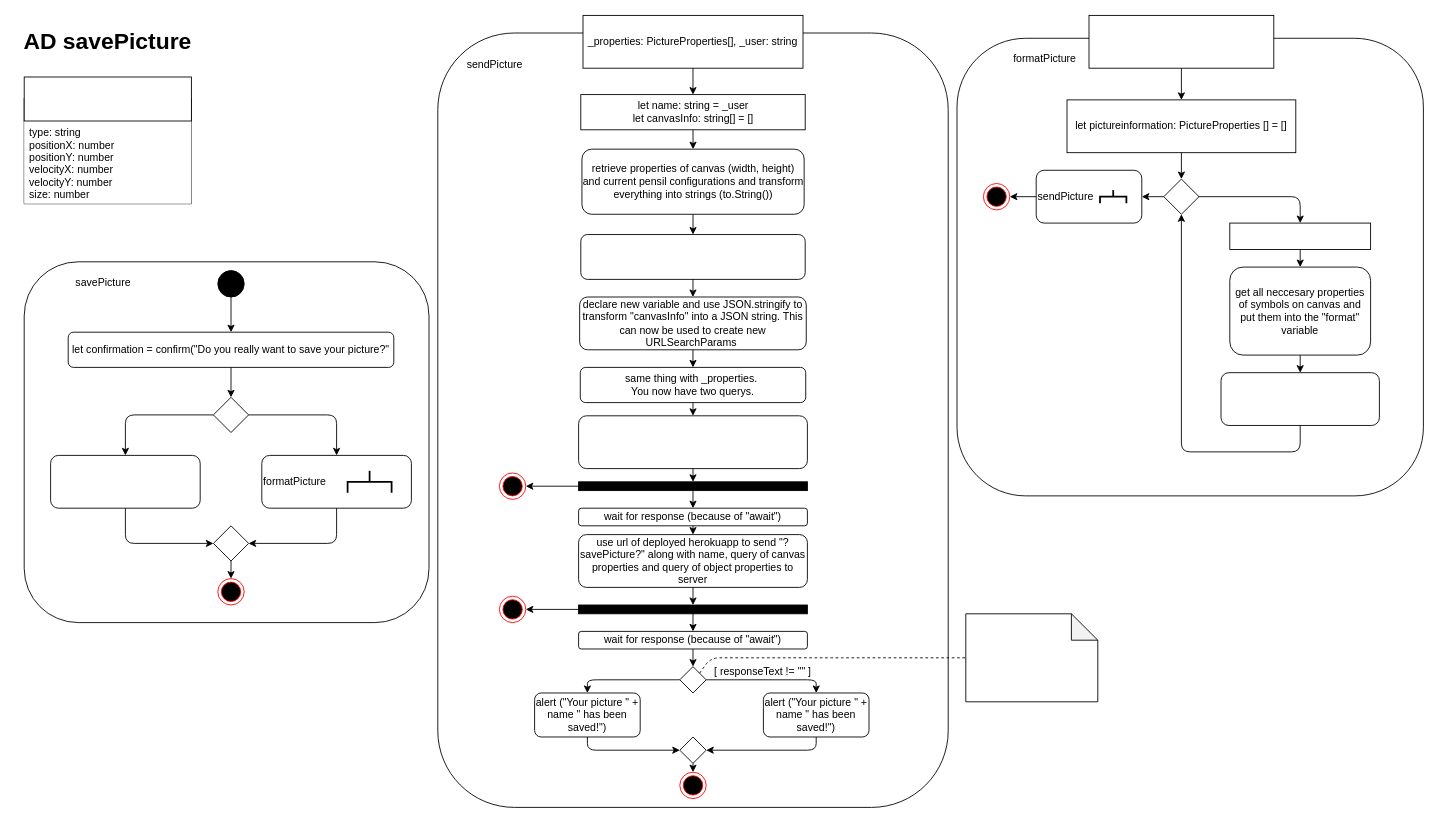
Image size: 1439x823. Some labels were removed from this diagram. Here are the shapes that lost their labels. From the top down, the centre of each, then its label:
pixel 1181 41: _user: string
pixel 107 98: «interface» PictureProperties
pixel 1300 235: let format: PictureProperties
pixel 692 256: push everything related to canvas & pensil into array "canvasInfo"
pixel 1299 398: pictureinformation.push(format)
pixel 692 442: use url of deployed herokuapp to send "?insertName&" + name to server
pixel 125 481: alert("Your picture hasn't been saved")
pixel 1031 657: to make sure the user gets the information that the pic has been saved properly
